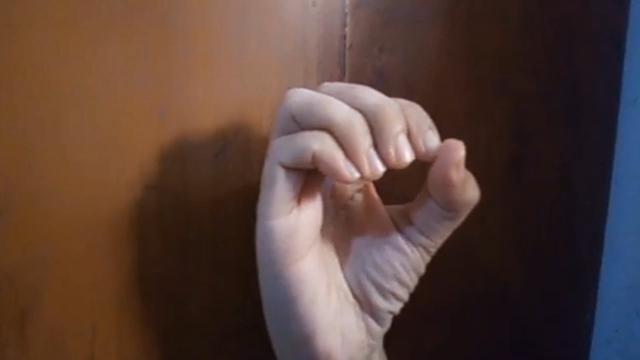O: (242, 72, 484, 360)
